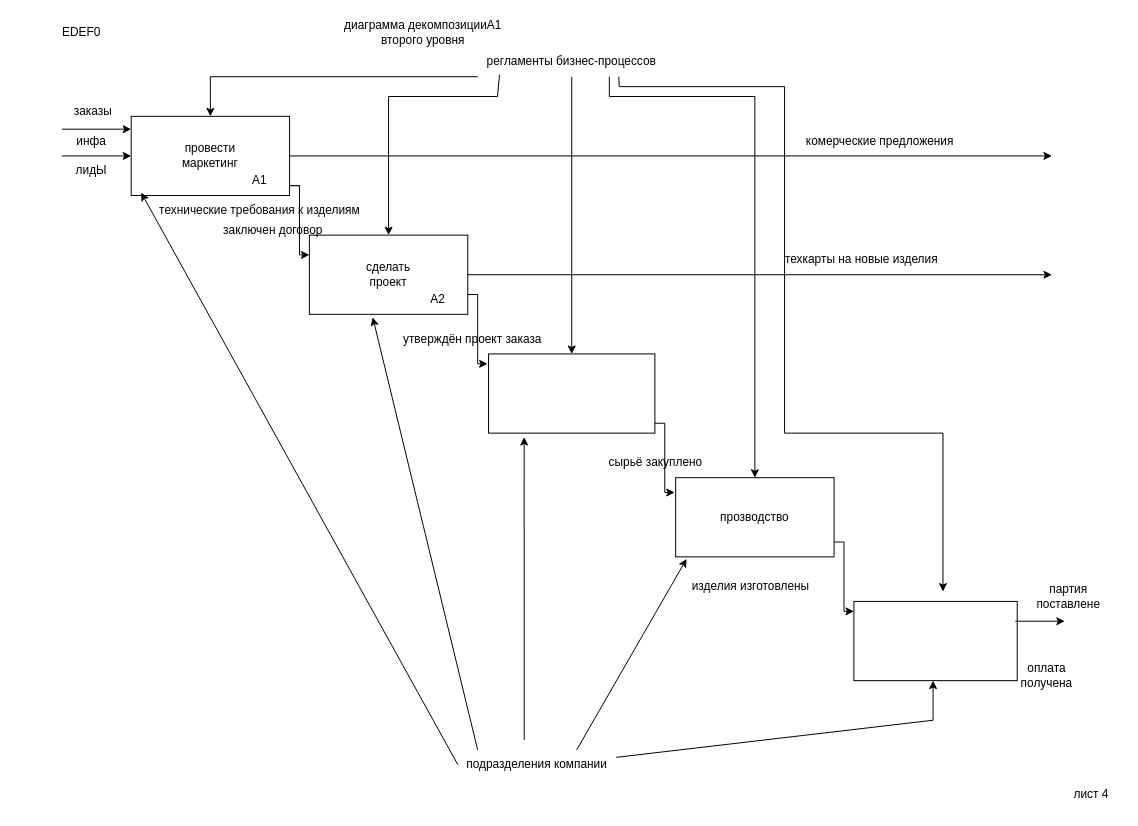
Some shapes in this 1138 by 826 pixel diagram are drawn without their labels. Here are the shapes that lost their labels. From the top down, the centre of each, then its label:
point (571, 393): закупить сырье
point (935, 640): поставка
